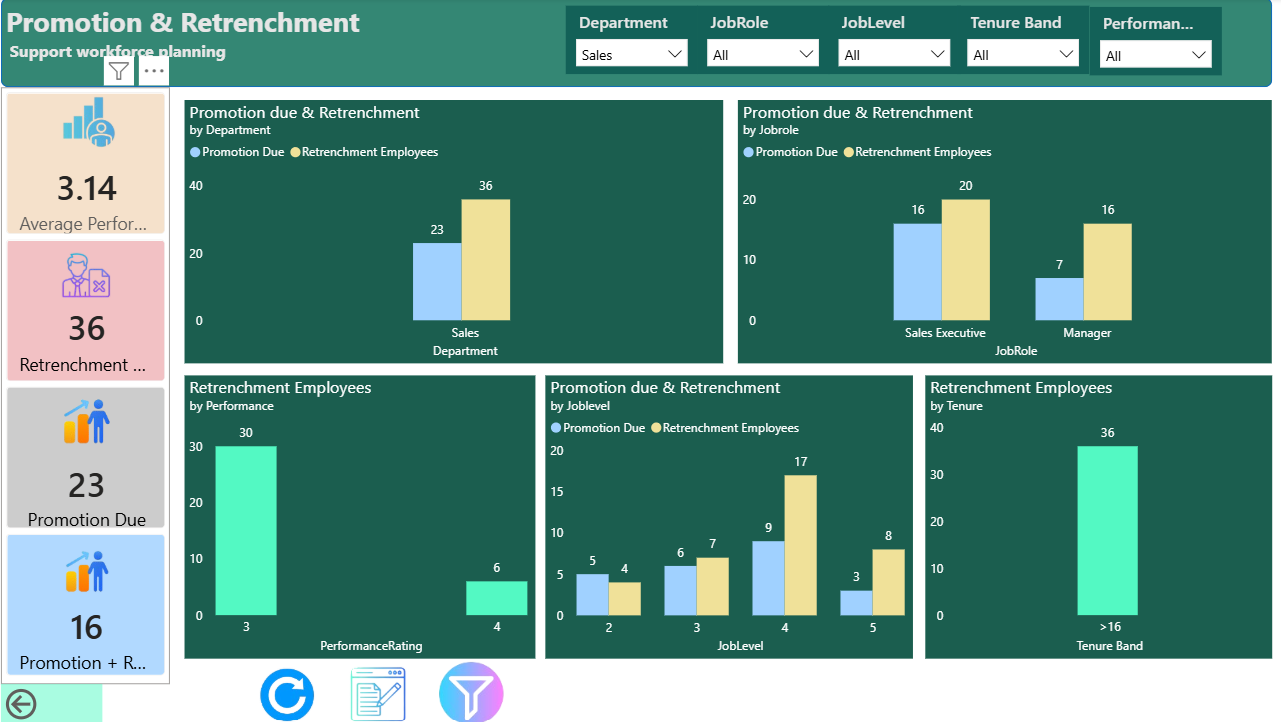

The dashboard page shown, as its layout file describes it:
{"tool":"powerbi","page":{"name":"PROMOTION & RETRENCHMENT","canvas":[1280,720],"ordinal":5},"visuals":[{"type":"shape","box":[9.1,0,1253,87.9],"z":0},{"type":"textbox","box":[9,0,446.1,79.1],"z":1000},{"type":"cardVisual","fields":{"Data":["#MEASURES.Average Performance Rating","#MEASURES.Retrenchment Employees","#MEASURES.Promotion Due","#MEASURES.Promotion + Retrenchment Conflict"]},"box":[9,88,167.1,587.8],"z":2000},{"type":"clusteredColumnChart","title":"Promotion due & Retrenchment  ","fields":{"Category":["HR.Department"],"Y":["#MEASURES.Promotion Due","#MEASURES.Retrenchment Employees"]},"box":[189.5,100,531.1,259.6],"z":3000},{"type":"clusteredColumnChart","title":"Promotion due & Retrenchment  ","fields":{"Category":["HR.JobLevel"],"Y":["#MEASURES.Promotion Due","#MEASURES.Retrenchment Employees"]},"box":[546,371.5,362.5,279],"z":4000},{"type":"clusteredColumnChart","title":"Promotion due & Retrenchment  ","fields":{"Category":["HR.JobRole"],"Y":["#MEASURES.Promotion Due","#MEASURES.Retrenchment Employees"]},"box":[735.5,100,526.6,259.6],"z":5000},{"type":"clusteredColumnChart","title":"Retrenchment Employees  ","fields":{"Category":["HR.PerformanceRating"],"Y":["#MEASURES.Retrenchment Employees"]},"box":[189.5,371.5,346.1,279],"z":6000},{"type":"clusteredColumnChart","title":"Retrenchment  Employees","fields":{"Category":["HR.Tenure Band"],"Y":["#MEASURES.Retrenchment Employees"]},"box":[920.5,371.5,341.7,279],"z":7000},{"type":"slicer","fields":{"Values":["HR.Department"]},"box":[565.4,7.5,130,67.1],"z":8000},{"type":"slicer","fields":{"Values":["HR.JobRole"]},"box":[695.2,7.5,130,67.1],"z":9000},{"type":"slicer","fields":{"Values":["HR.JobLevel"]},"box":[825,7.5,130,67.1],"z":10000},{"type":"slicer","fields":{"Values":["HR.Tenure Band"]},"box":[951.8,7.5,130,67.1],"z":11000},{"type":"slicer","fields":{"Values":["HR.PerformanceRating"]},"box":[1081.6,9,130,67.1],"z":12000},{"type":"actionButton","box":[9,675.8,100,40],"z":13000},{"type":"image","box":[247.6,652.1,92.6,68],"z":14000},{"type":"image","box":[340.2,652.1,79.4,68],"z":15000},{"type":"image","box":[247.6,652,92.6,68],"z":17000},{"type":"image","box":[434.1,643,77.6,77.6],"z":18000}]}

Visuals, with their boxes in screenshot pixels (x1, y1, x2, y2), scaled from the page's 1280x720 canvas onto the 1281x722 screenshot:
shape: {"left": 9, "top": 0, "right": 1263, "bottom": 88}
textbox: {"left": 9, "top": 0, "right": 455, "bottom": 79}
cardVisual - #MEASURES.Average Performance Rating x #MEASURES.Retrenchment Employees: {"left": 9, "top": 88, "right": 176, "bottom": 678}
"Promotion due & Retrenchment  " clusteredColumnChart: {"left": 190, "top": 100, "right": 721, "bottom": 361}
"Promotion due & Retrenchment  " clusteredColumnChart: {"left": 546, "top": 373, "right": 909, "bottom": 652}
"Promotion due & Retrenchment  " clusteredColumnChart: {"left": 736, "top": 100, "right": 1263, "bottom": 361}
"Retrenchment Employees  " clusteredColumnChart: {"left": 190, "top": 373, "right": 536, "bottom": 652}
"Retrenchment  Employees" clusteredColumnChart: {"left": 921, "top": 373, "right": 1263, "bottom": 652}
slicer - HR.Department: {"left": 566, "top": 8, "right": 696, "bottom": 75}
slicer - HR.JobRole: {"left": 696, "top": 8, "right": 826, "bottom": 75}
slicer - HR.JobLevel: {"left": 826, "top": 8, "right": 956, "bottom": 75}
slicer - HR.Tenure Band: {"left": 953, "top": 8, "right": 1083, "bottom": 75}
slicer - HR.PerformanceRating: {"left": 1082, "top": 9, "right": 1213, "bottom": 76}
actionButton: {"left": 9, "top": 678, "right": 109, "bottom": 718}
image: {"left": 248, "top": 654, "right": 340, "bottom": 721}
image: {"left": 340, "top": 654, "right": 420, "bottom": 721}
image: {"left": 248, "top": 654, "right": 340, "bottom": 721}
image: {"left": 434, "top": 645, "right": 512, "bottom": 721}
